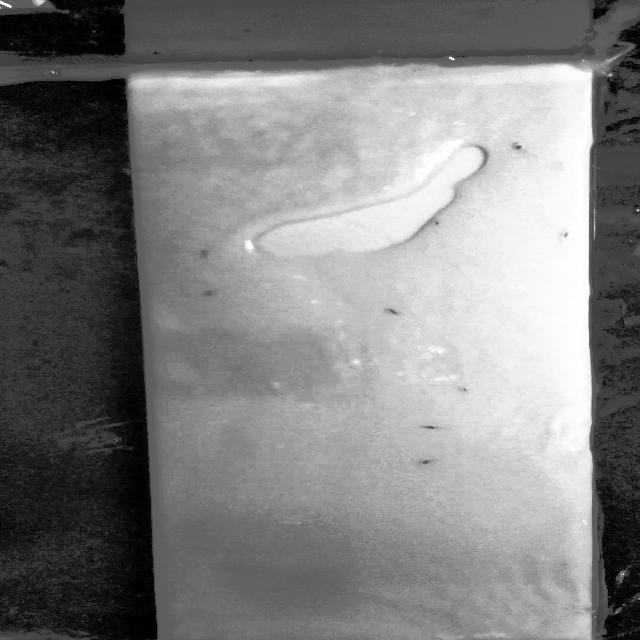shrimp: (504, 142, 540, 153), (414, 424, 454, 433), (414, 455, 439, 468), (382, 304, 404, 318), (556, 225, 568, 245), (458, 386, 478, 397), (196, 290, 217, 300), (196, 248, 212, 261), (433, 219, 445, 229)
